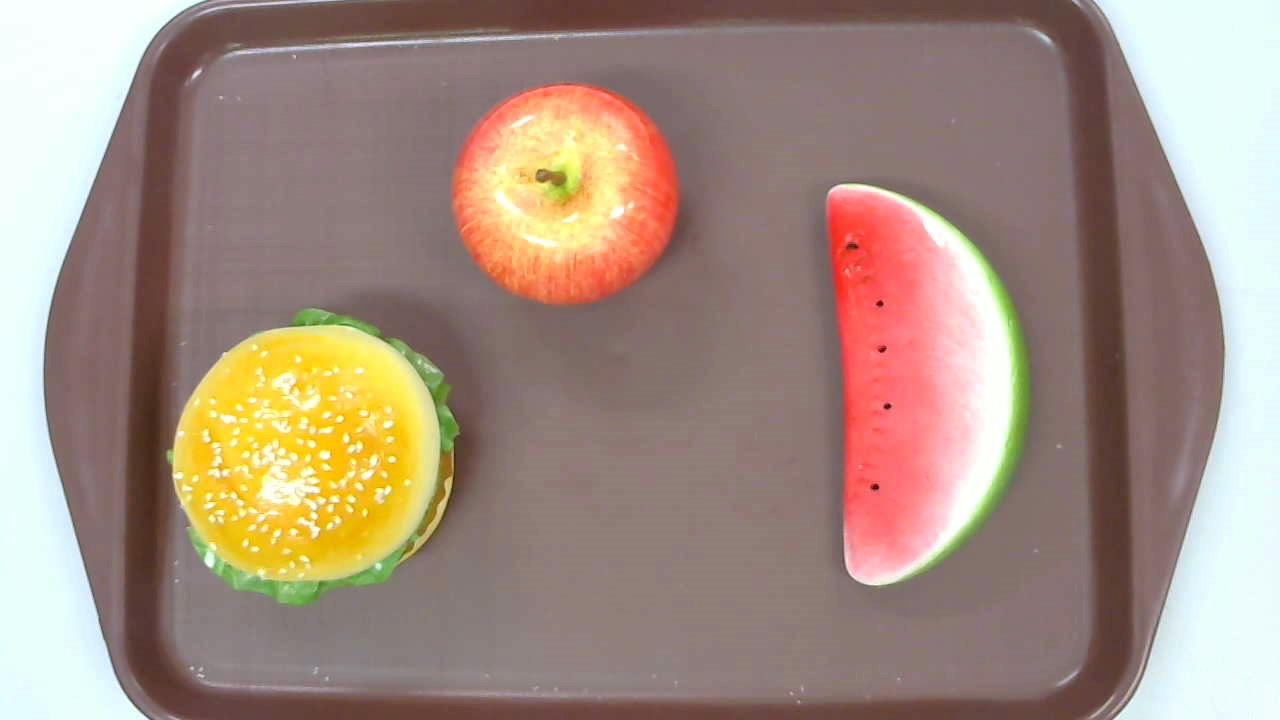hamburger: (166, 307, 460, 604)
red apple: (450, 81, 681, 306)
water melon: (826, 181, 1030, 587)
